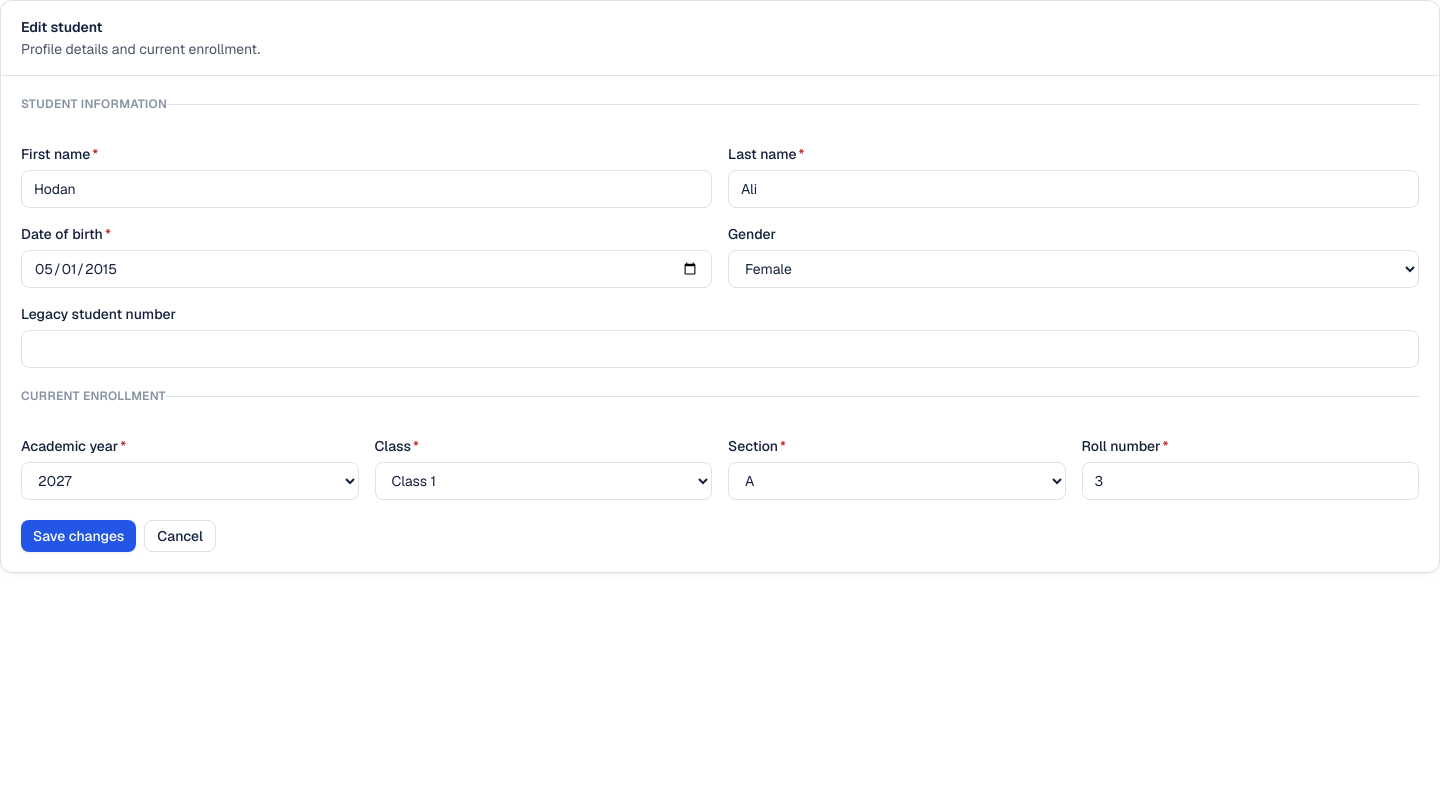
Test: EditStudentForm — editing fields › changing academic year resets the class and section selects
The image size is (1440, 810).
expect the dropdown below "Class" shows "Class 1": met, box [374,462,712,500]
Select "2028" in the dropdown below "Academic year" at (190, 481), box [21,462,358,500]
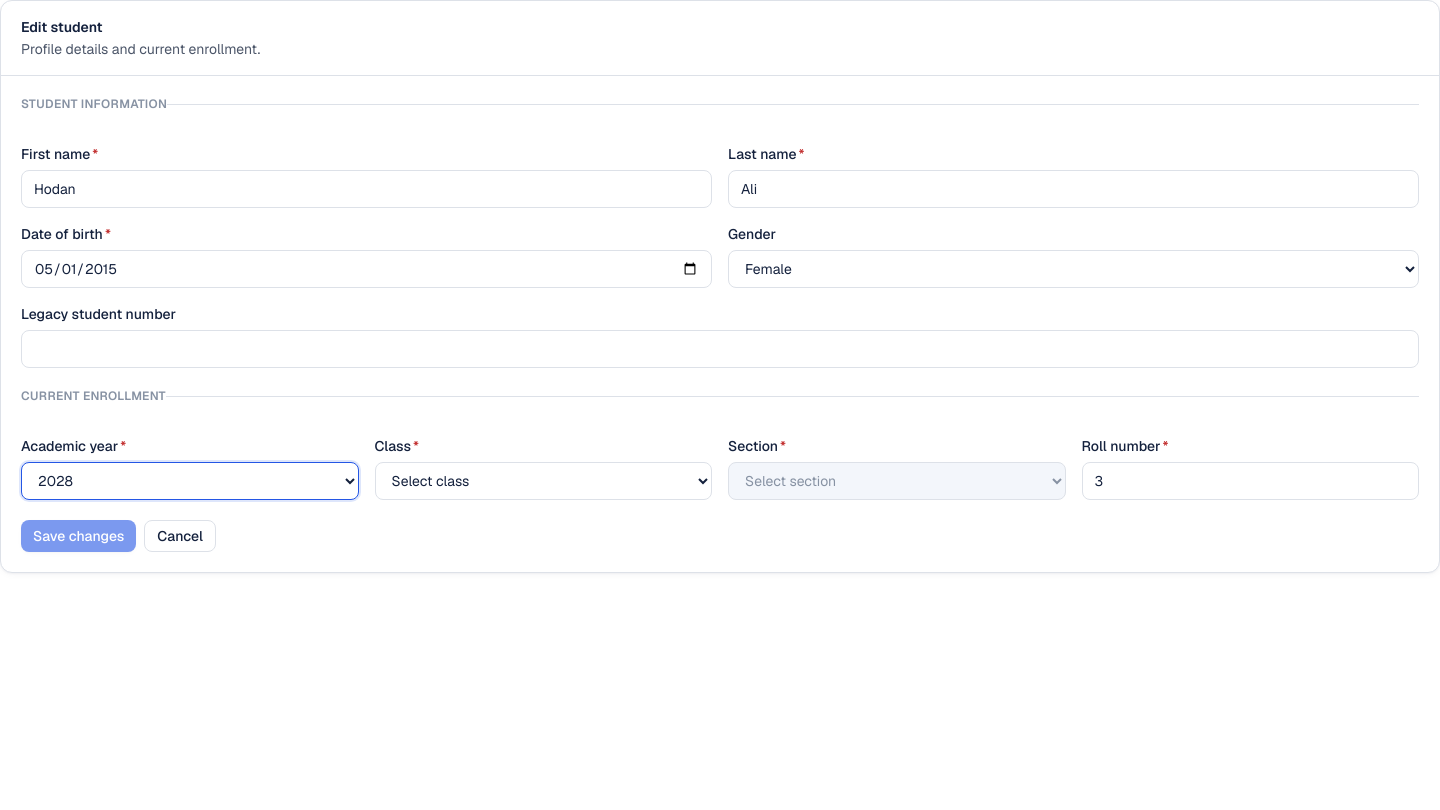
expect the dropdown below "Class" shows "Select class": met, box [374,462,712,500]
expect the dropdown below "Section" shows "Select section": met, box [728,462,1066,500]
